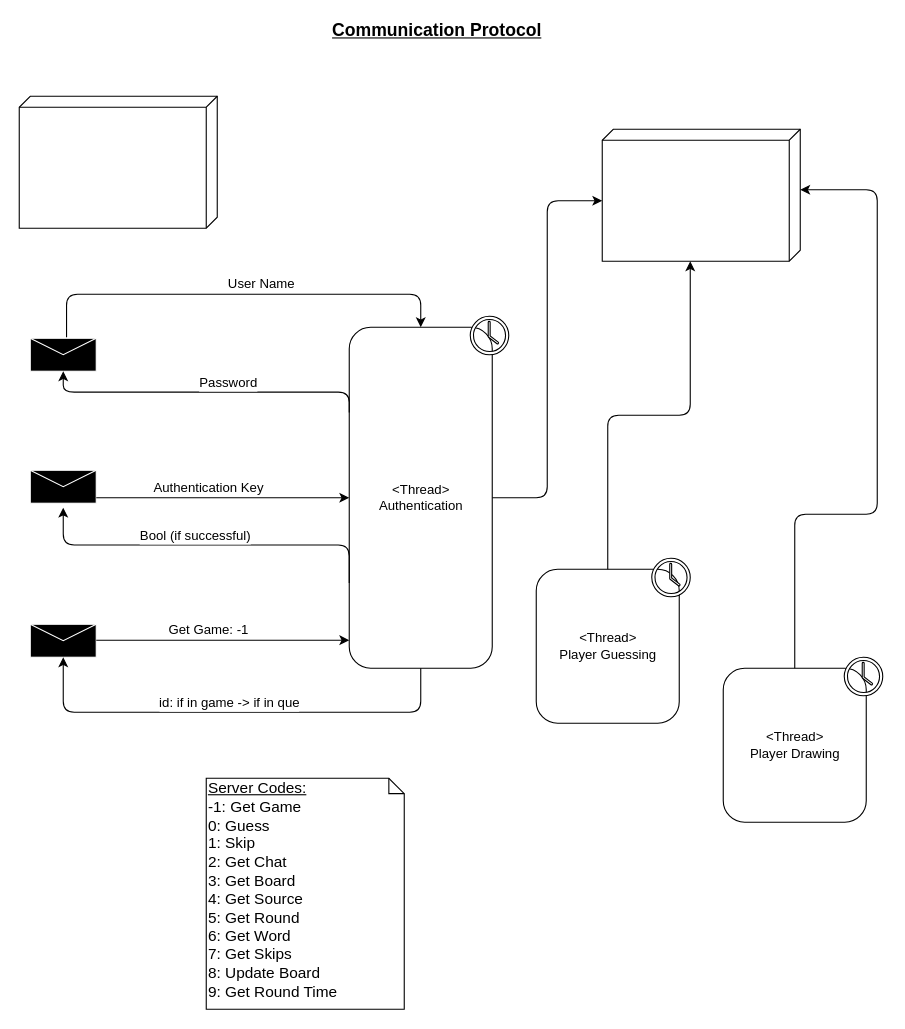
This 905x1029 diagram has some shape labels left out. The centre of each missing label's shape, as x and y in pixels:
"Client" goes at [117,161].
"Server" goes at [700,194].
